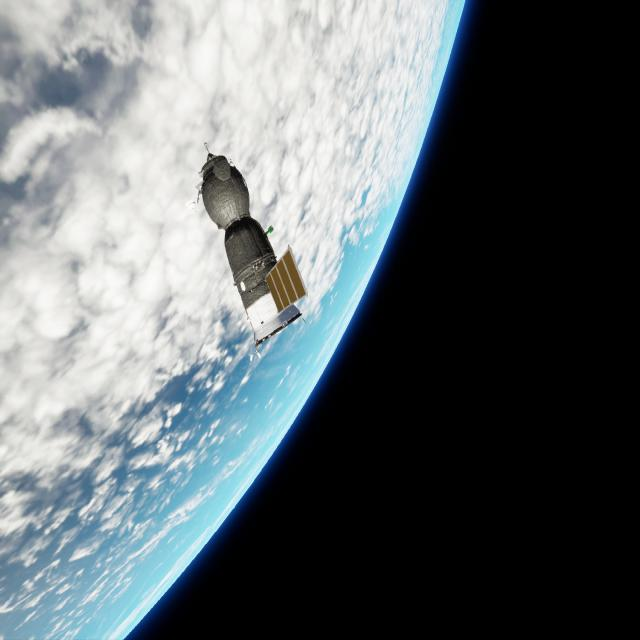Satellites revolving around earth: (1, 1, 468, 638), (195, 143, 309, 351)
